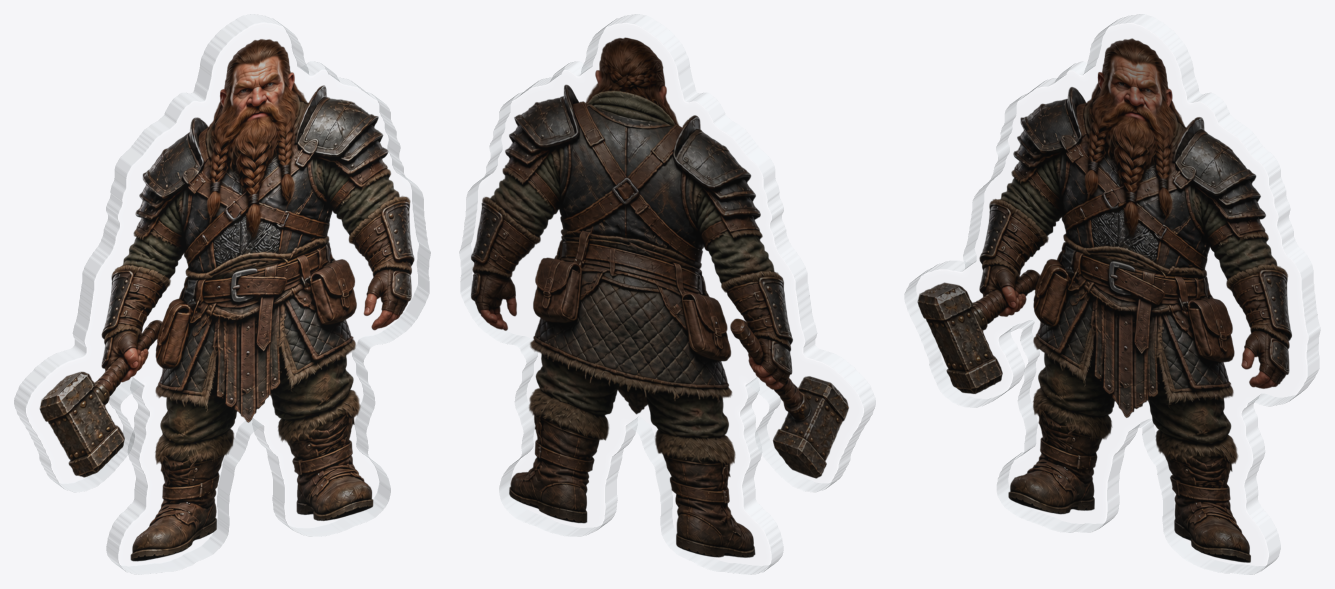
The model's file is brom-hammer-only.glb.
The picture shows the model from 3 angles, left to right: view 1: azimuth 30°, elevation 25°; view 2: azimuth 150°, elevation 25°; view 3: azimuth 330°, elevation 25°; orthographic projection.
Visible parts, largest first — view 1: preview_standee; view 2: preview_standee; view 3: preview_standee.
Boxes of the visible parts, x1=… form: preview_standee: x1=14, y1=14, x2=430, y2=574; preview_standee: x1=459, y1=14, x2=875, y2=574; preview_standee: x1=904, y1=14, x2=1320, y2=574.
Bounding box in the file's own units: 0.7652 × 0.9555 × 0.04.
Materials: 3 (2 with a texture image).
